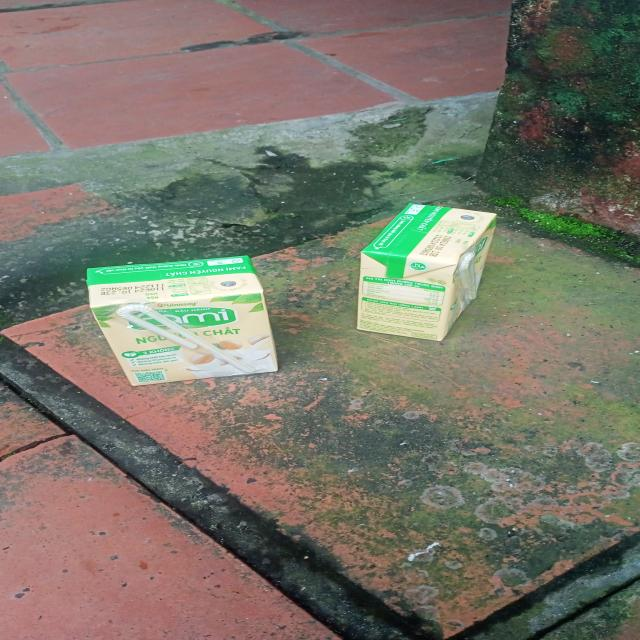Fami: (92, 257, 278, 387), (357, 203, 498, 342)
